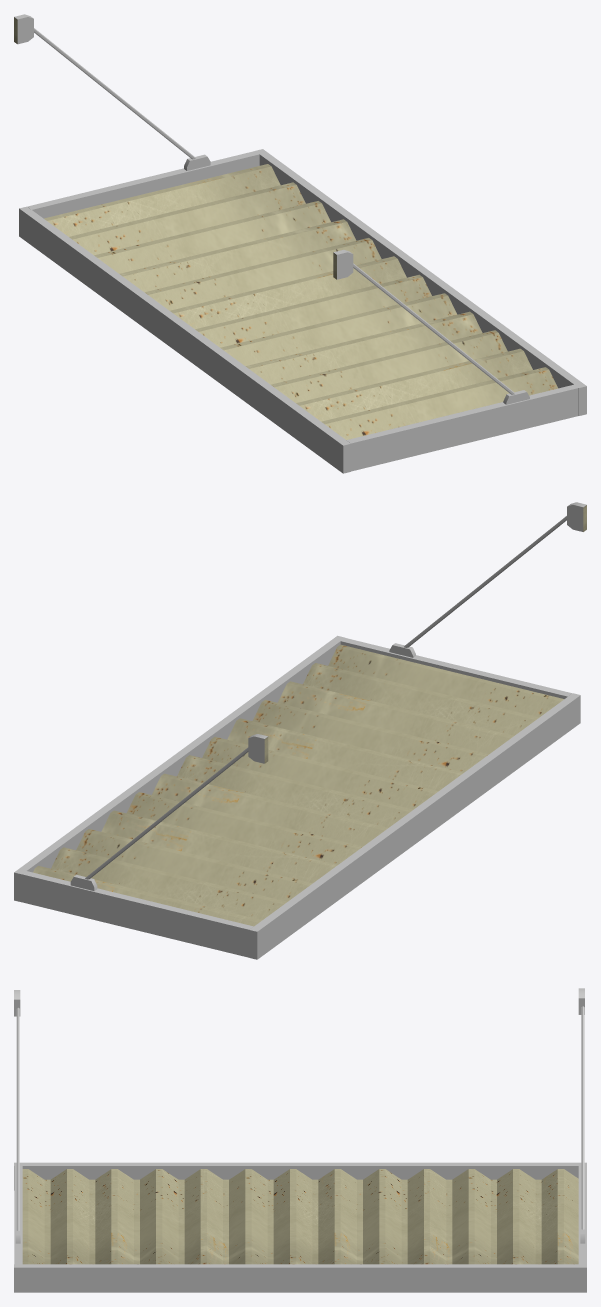
The model's file is raincover04c.fbx.
3 views of the same model, one above another, from view 1: azimuth 30°, elevation 25°; view 2: azimuth 150°, elevation 25°; view 3: azimuth 270°, elevation 25° (orthographic). The views are drawn at different scales.
Parts seen in each view (by area): view 1: raincover04c; view 2: raincover04c; view 3: raincover04c.
Boxes of the visible parts, x1=… form: raincover04c: x1=14, y1=14, x2=586, y2=473; raincover04c: x1=14, y1=502, x2=586, y2=959; raincover04c: x1=14, y1=988, x2=586, y2=1292.
Bounding box in the file's own units: 379 × 322 × 851.
